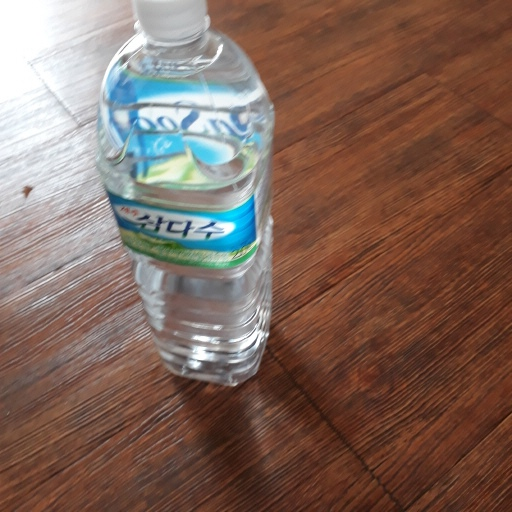Plastic_0: (98, 1, 277, 386)
